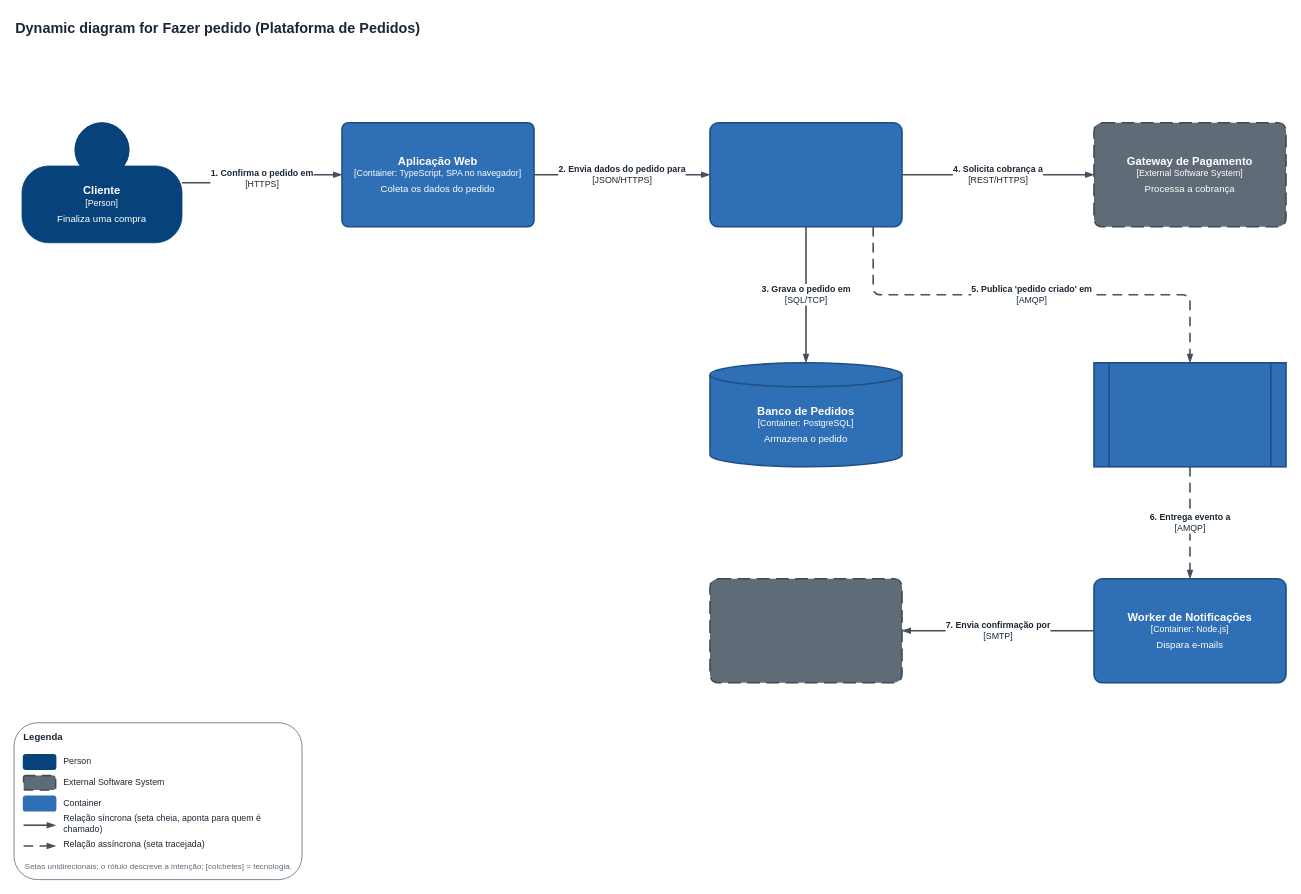
The diagram is 1301 pixels wide and 894 high, and some of its shapes have lost their labels. The box of each missing label's shape, as (x1, y1, x2, y2) in pixels:
API de Pedidos [Container: Node.js, REST/JSON] Valida e registra o pedido: (709, 122, 902, 227)
Fila de Eventos [Container: Mensageria AMQP] Eventos de pedido: (1093, 362, 1286, 467)
Serviço de E-mail [External Software System] Entrega e-mails: (709, 578, 902, 683)
